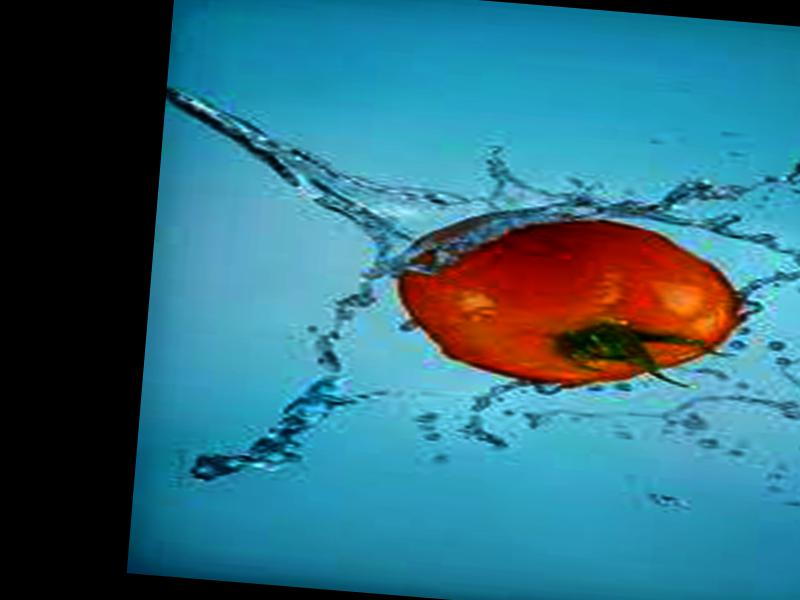Tomato: (392, 201, 748, 397)
